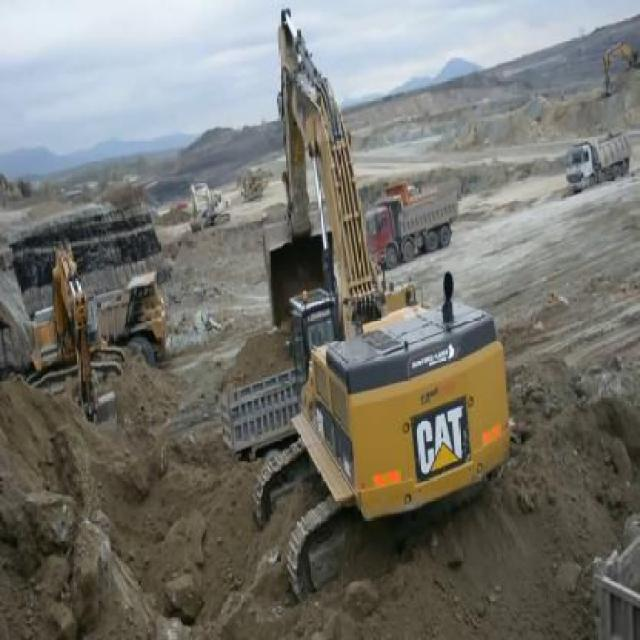Dump Truck: (364, 176, 458, 269), (94, 268, 169, 363), (565, 127, 629, 195)
Excavator: (251, 2, 512, 606), (31, 240, 120, 422), (604, 38, 639, 96), (191, 181, 229, 222)
